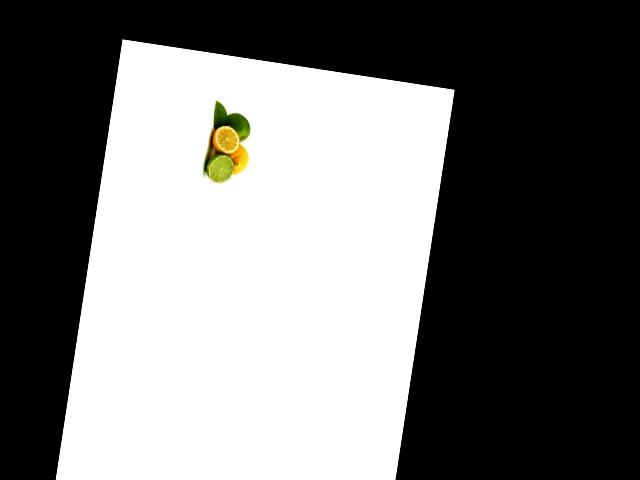lemon: (223, 143, 252, 177)
